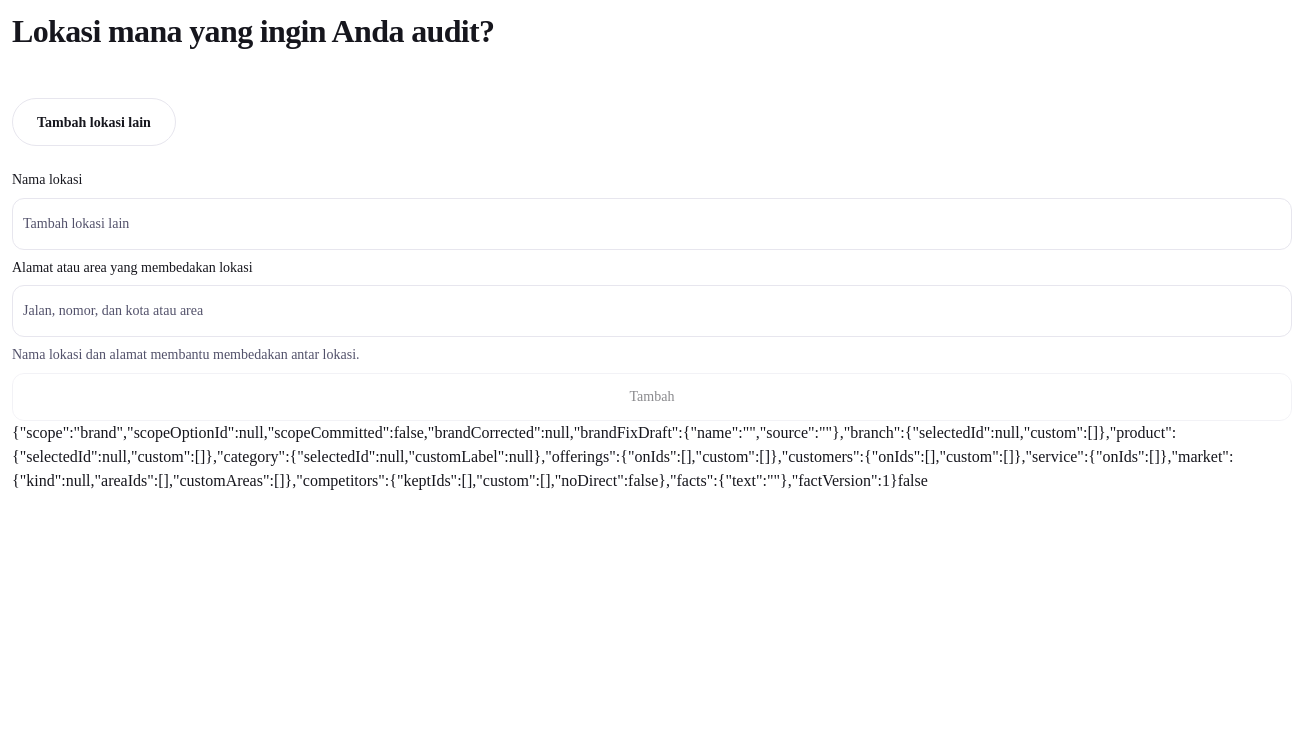
complete intake controls › requires a distinguishing address for a manual empty location
This screenshot has width=1304, height=732.
Step 1. Type "Gerai Timur" into the field labelled "Nama lokasi" → (652, 224), box [12,198,1292,250]
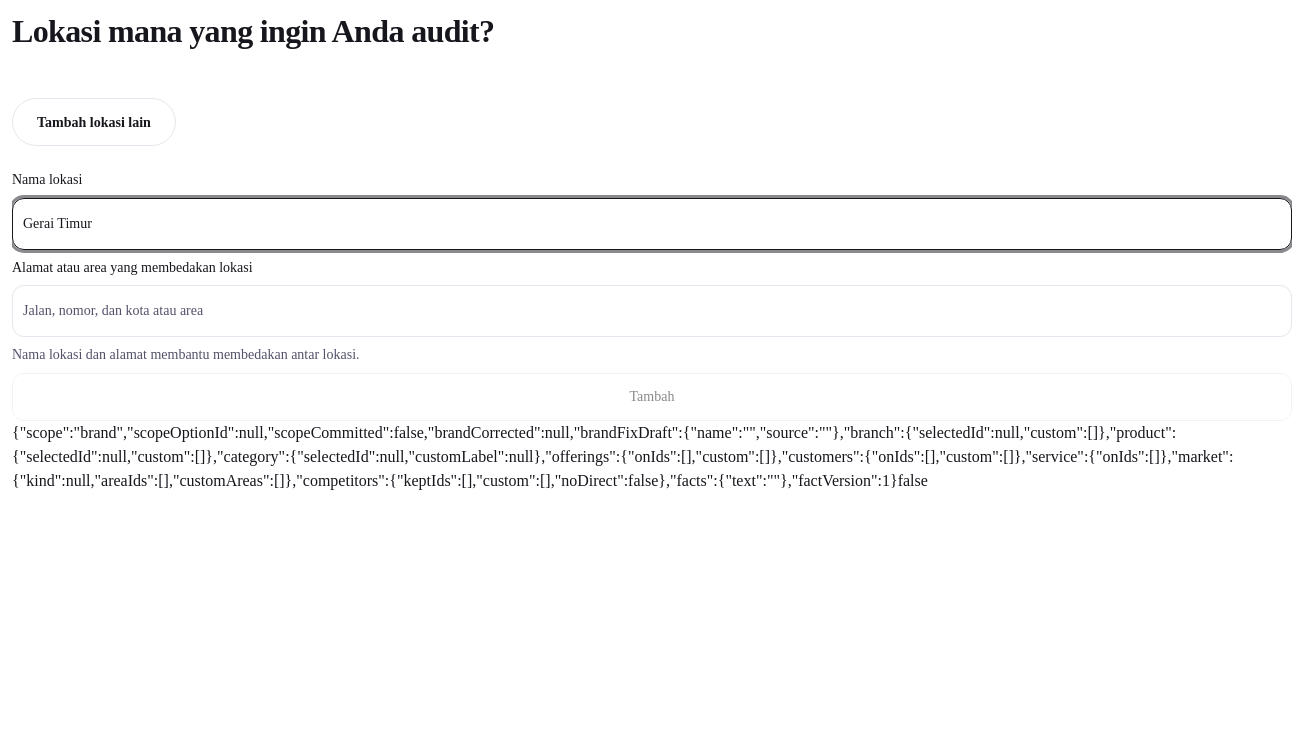
Expected: the button "Tambah" is disabled, [12,373,1292,421]
Step 2. Type "Jl. Timur 12, Bandung" into the field labelled "Alamat atau area yang membedakan lokasi" → (652, 311), box [12,285,1292,337]
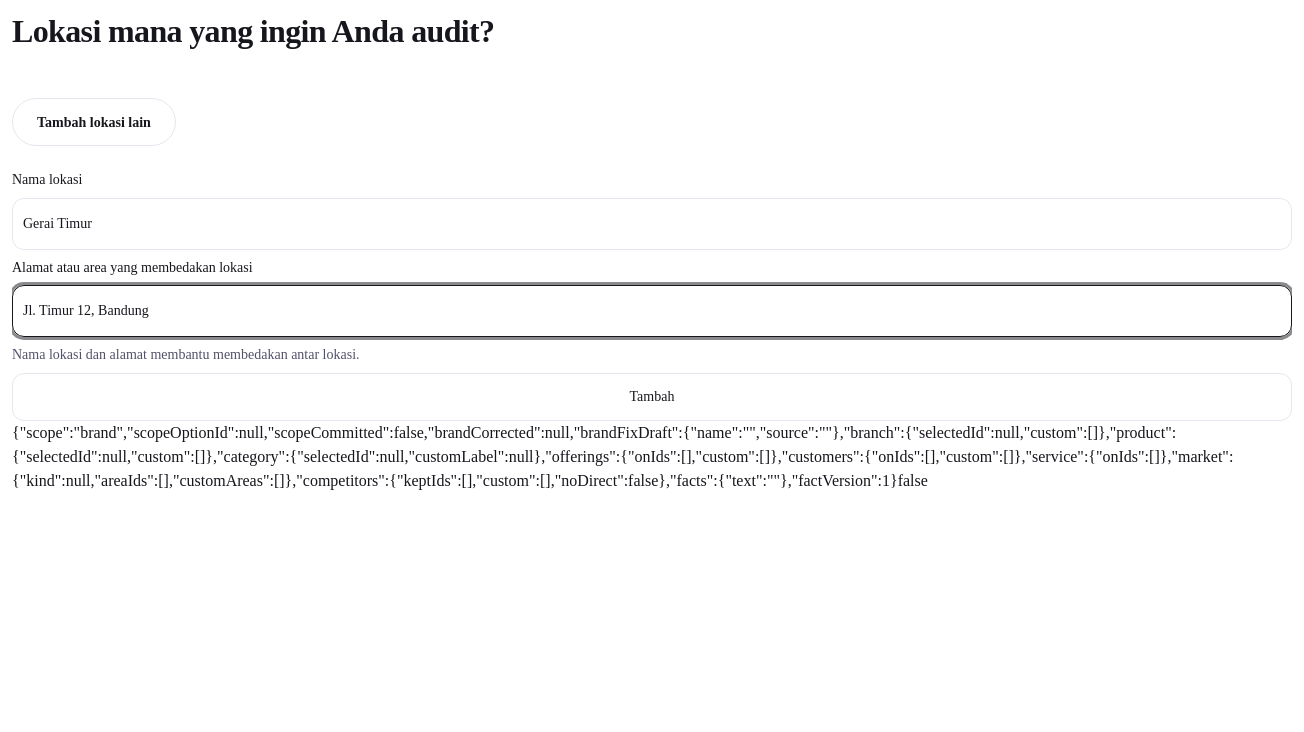
Step 3. Click the button "Tambah" → (652, 397), box [12,373,1292,421]
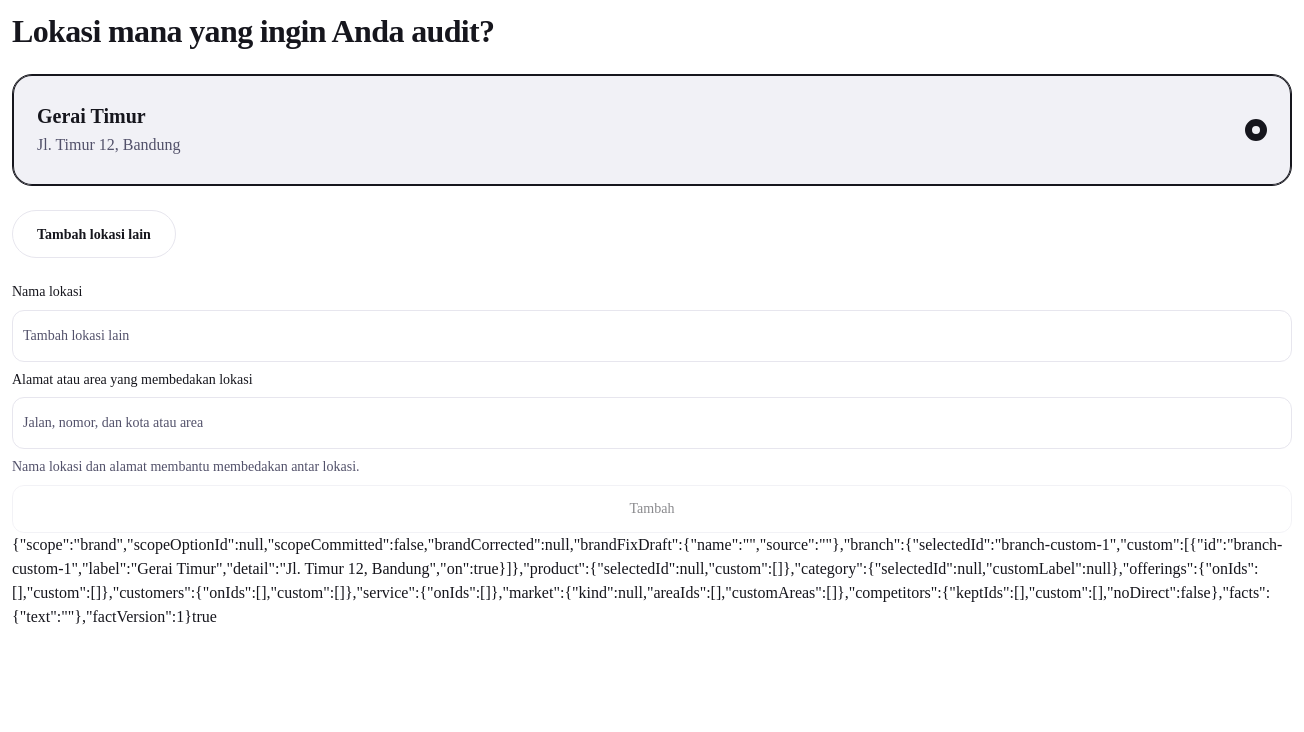
Expected: the text with test id "valid" reads "true", [192,608,217,625]
